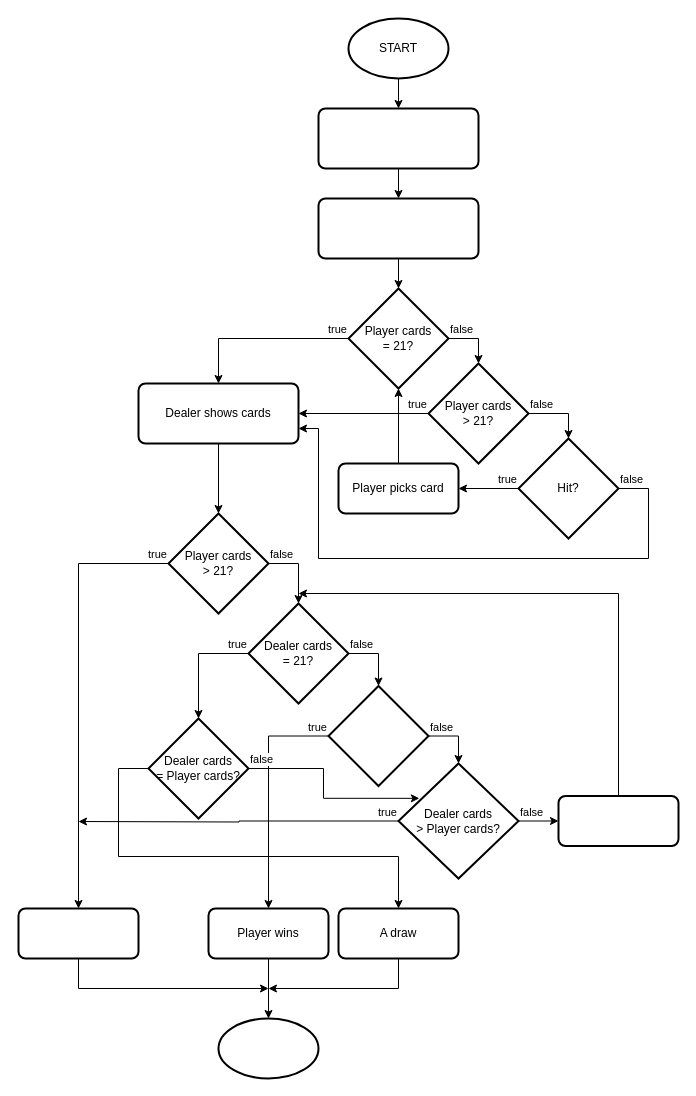
This 696x1096 diagram has some shape labels left out. The centre of each missing label's shape, as x and y in pixels:
"Deal two cards each for player and for dealer" belongs at (x=398, y=138).
"Dealer cards > 21?" belongs at (x=378, y=735).
"Dealer picks card" belongs at (x=618, y=820).
"Dealer wins" belongs at (x=78, y=933).
"Show cards to the player" belongs at (x=398, y=228).
"STOP" belongs at (x=268, y=1048).
